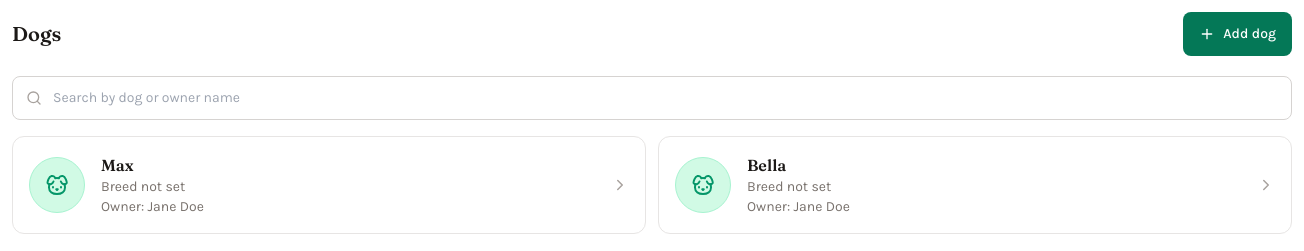
Dogs list › filters dogs by search query (dog or owner name)
The image size is (1304, 251).
In the field named "Search dogs": (652, 98) 12,76 -> 1292,120, type "bella"
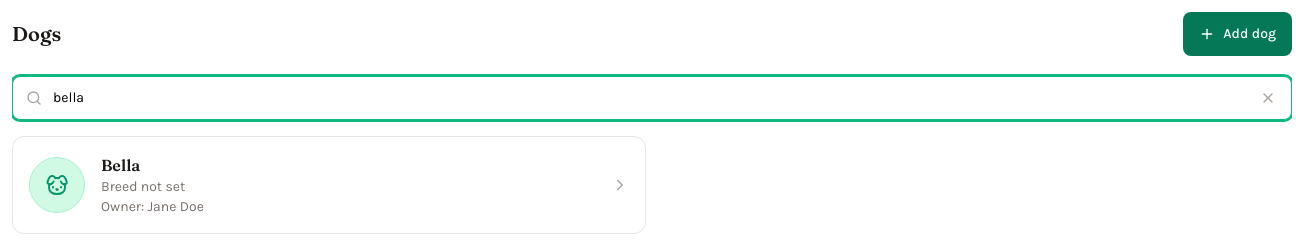
Expected: the text "Bella" is shown, 101,155 -> 140,175
Now the button "Max" is gone
